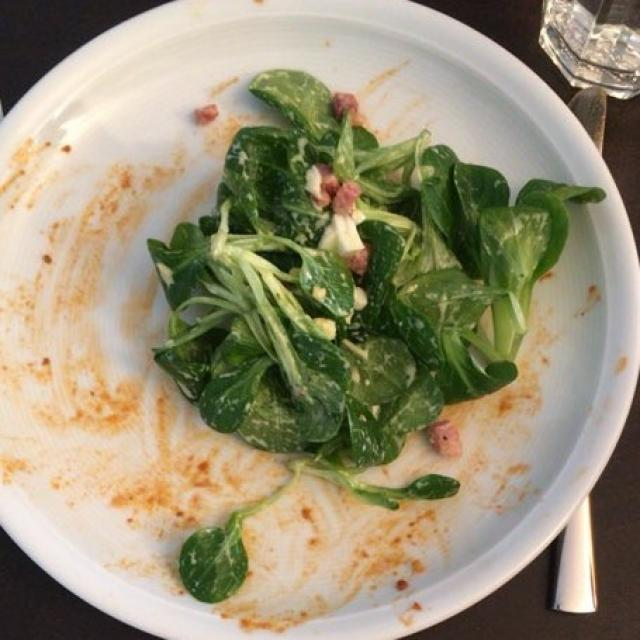bacon: (319, 173, 364, 274)
salad: (146, 58, 569, 602)
